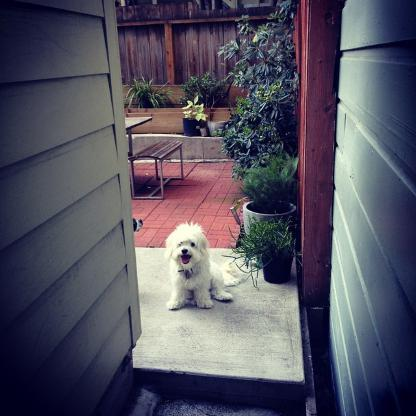Dog: (166, 217, 242, 309)
